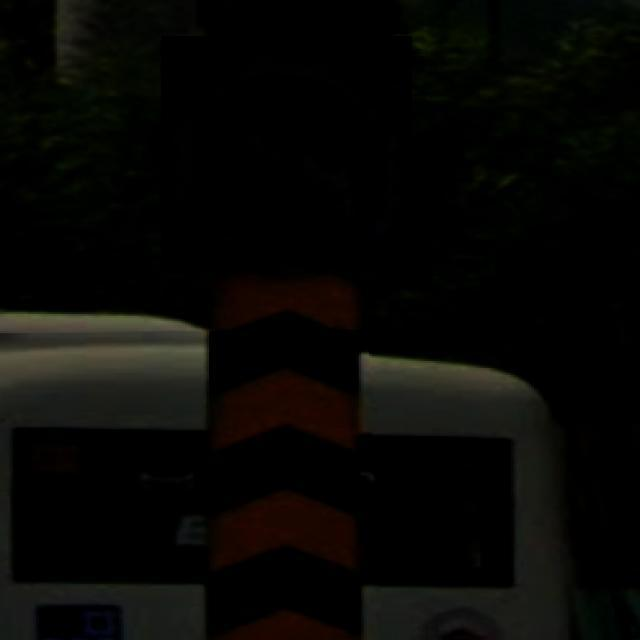keep right: (161, 36, 412, 274)
